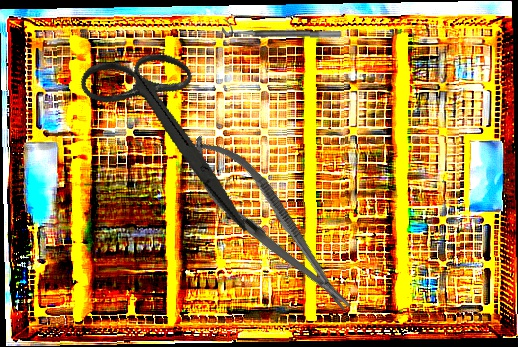Fixation Ring: (221, 18, 342, 39)
Iris Scissors: (50, 28, 295, 234)
Needle Holder: (173, 121, 368, 329)
